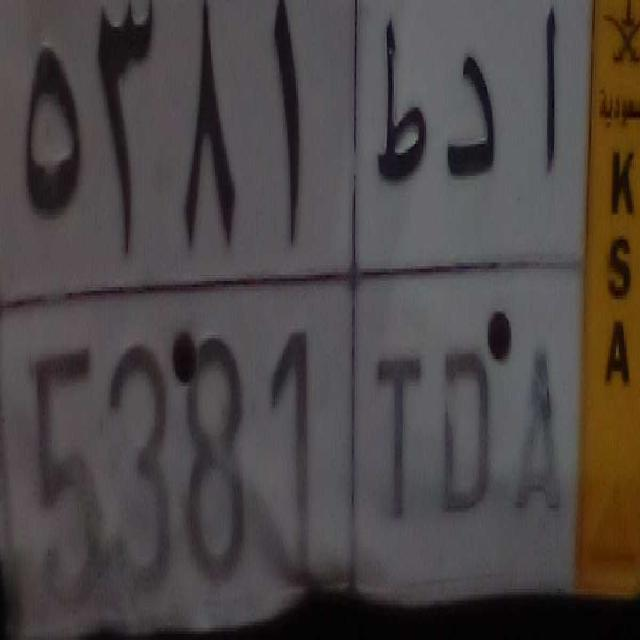license_plate: (0, 264, 585, 639)
